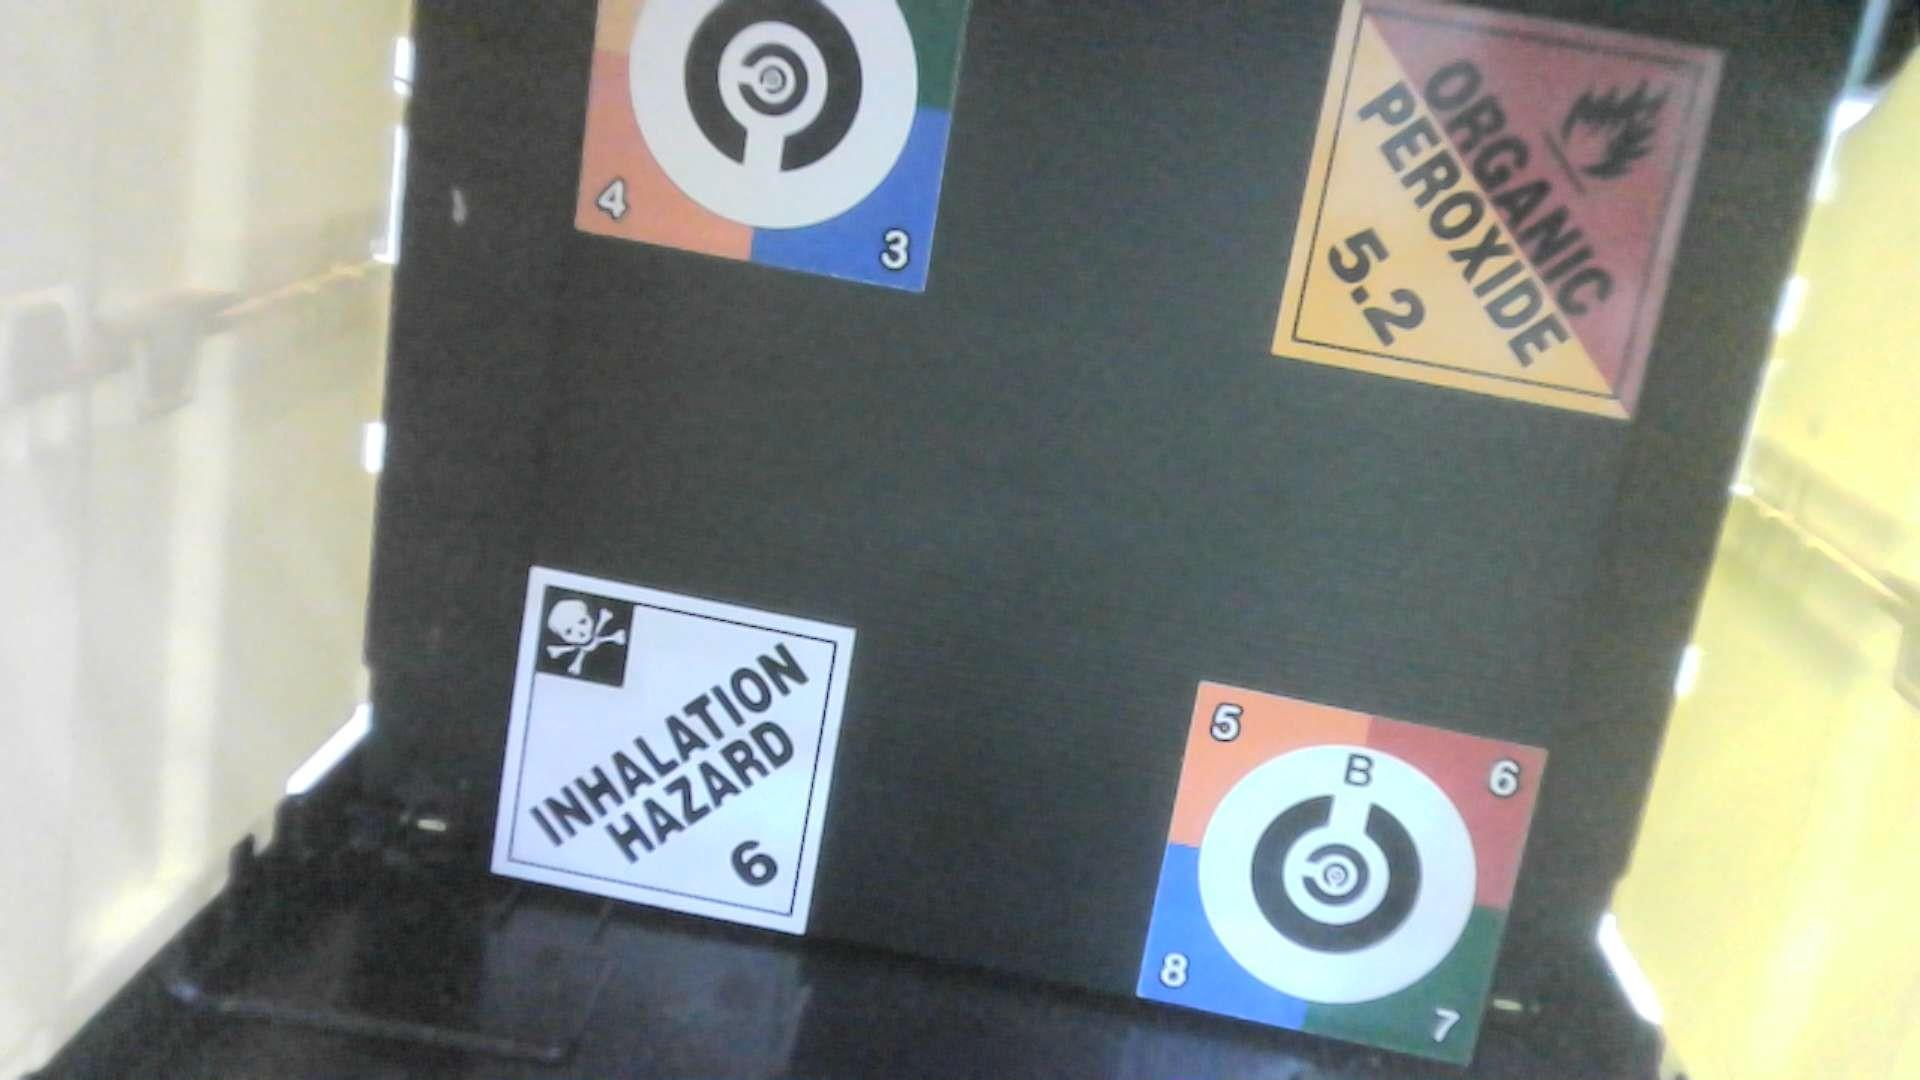organic-peroxide: (1269, 1, 1741, 425)
poison: (483, 551, 870, 942)
